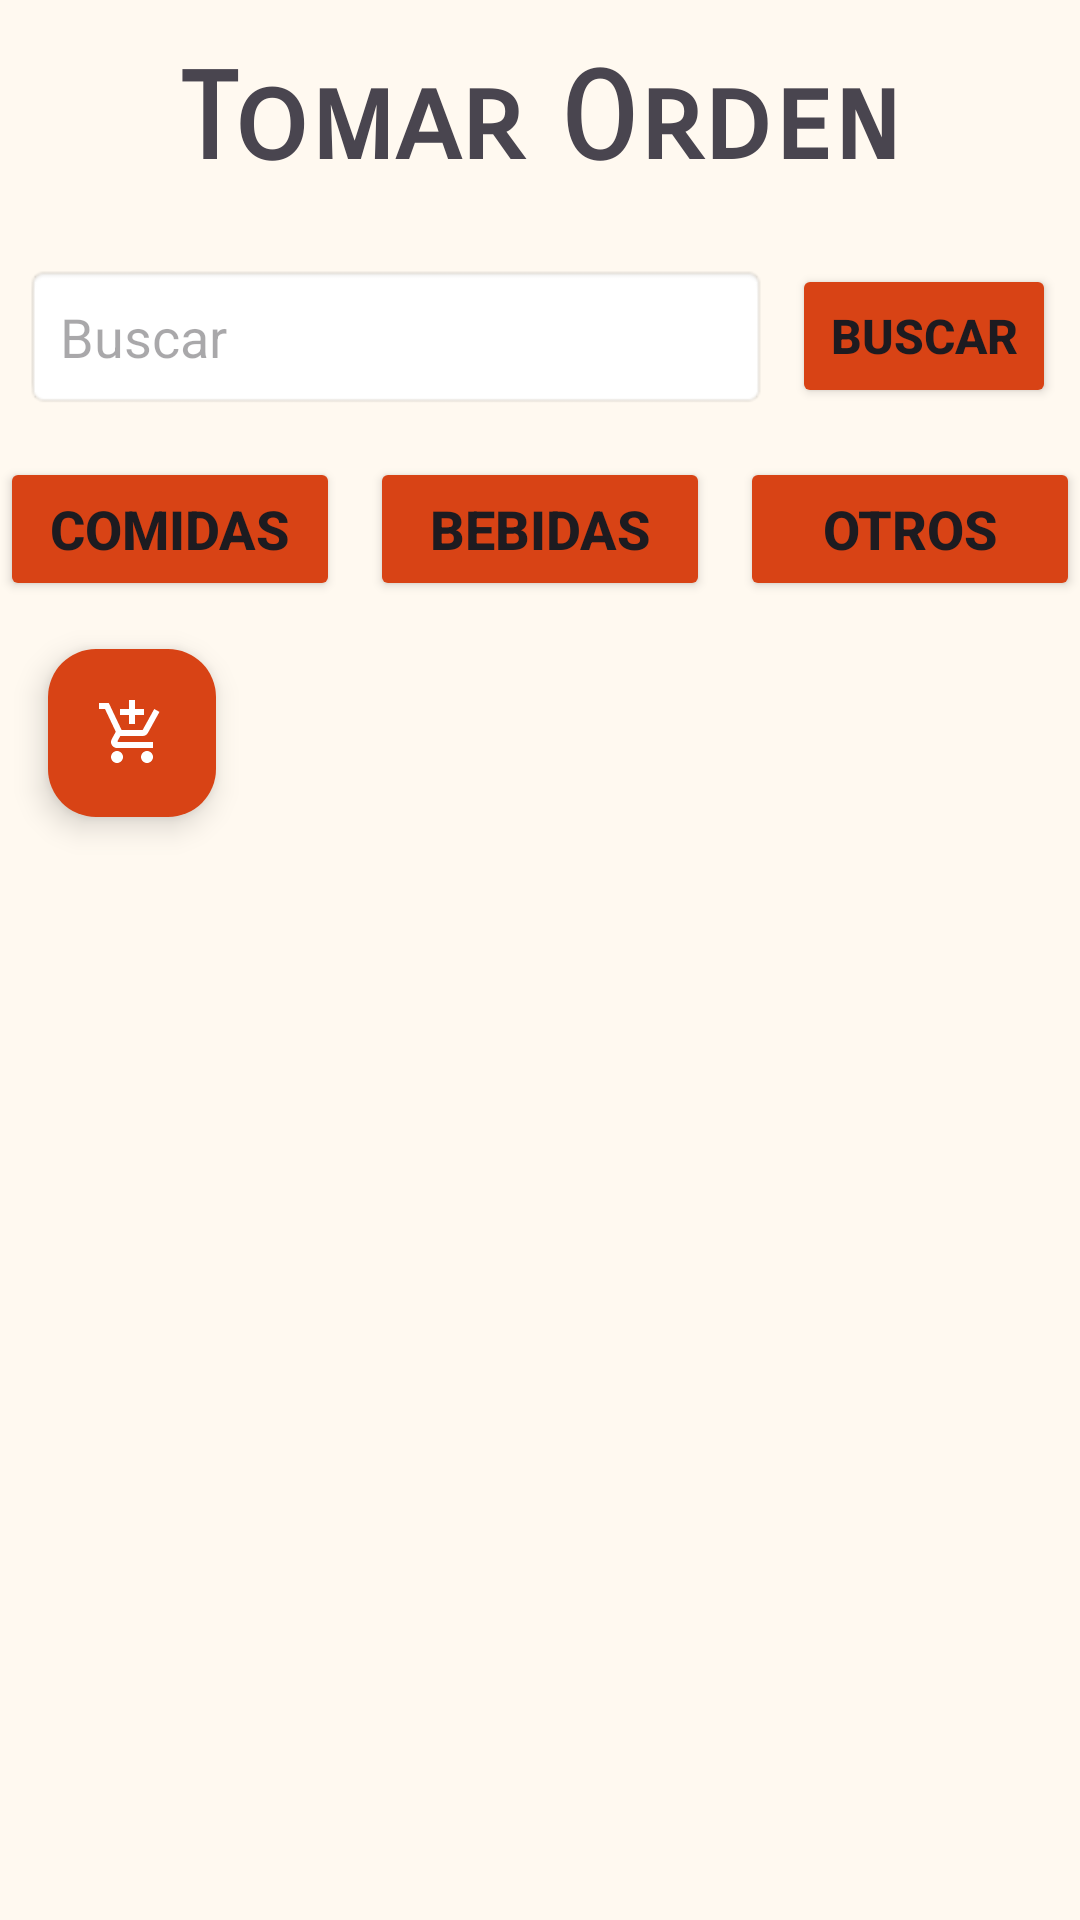

Named icons in this screenshot (1080 x 1920) and their centers, [x,y]:
Carrito de compras: [132,733]
